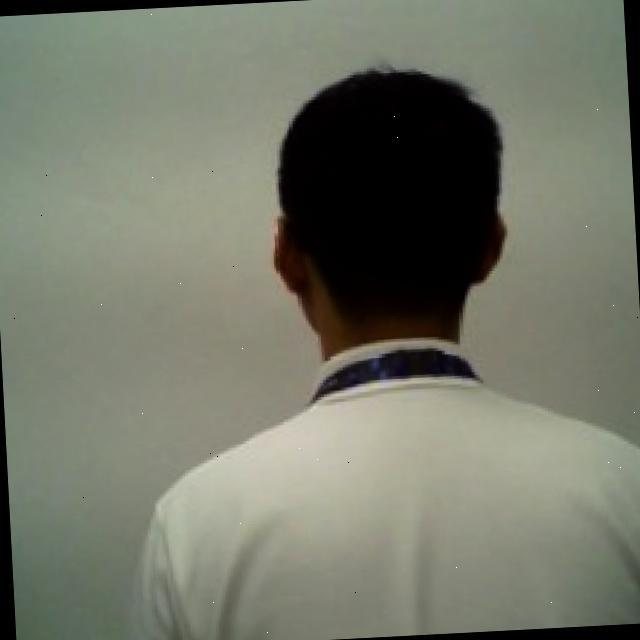no_gloves: (248, 61, 532, 362)
